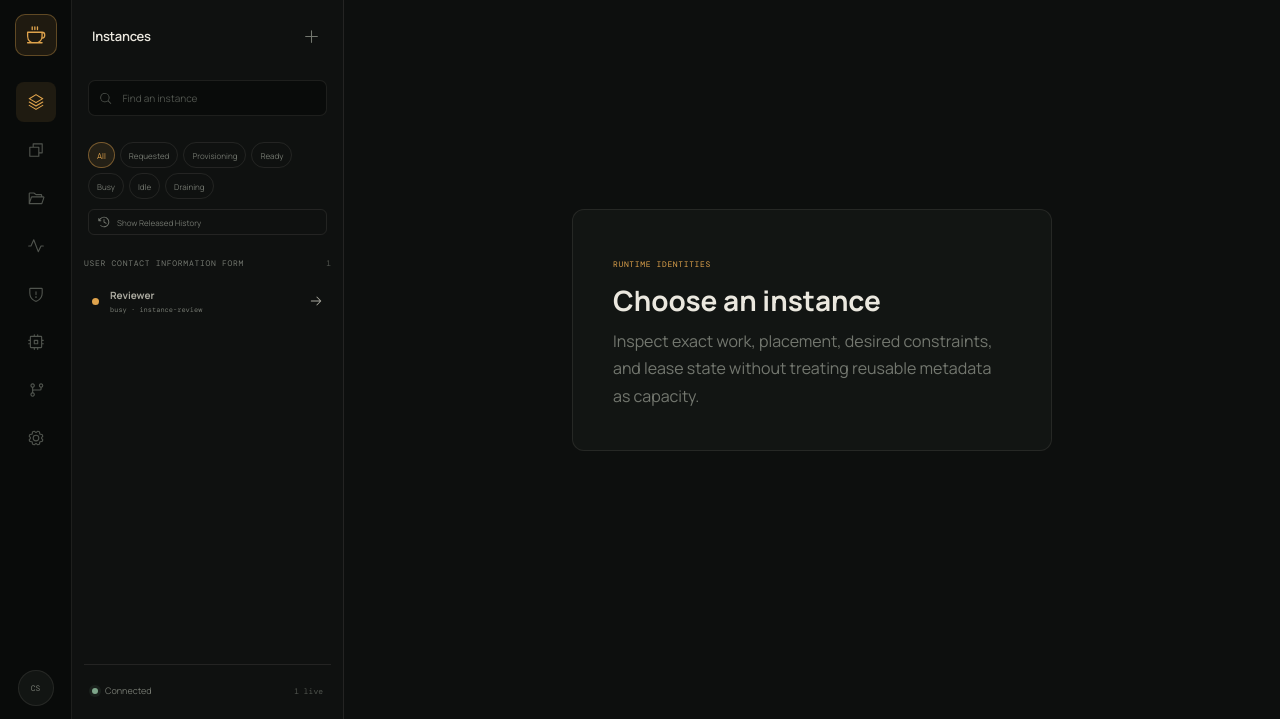
Test: version-5 instance and template operator experience › opens on instances, keeps desired constraints separate, and shows exact capacity/work
Click the button "Reviewer busy · instance-review" at [208, 301], box [84,275,331,327]
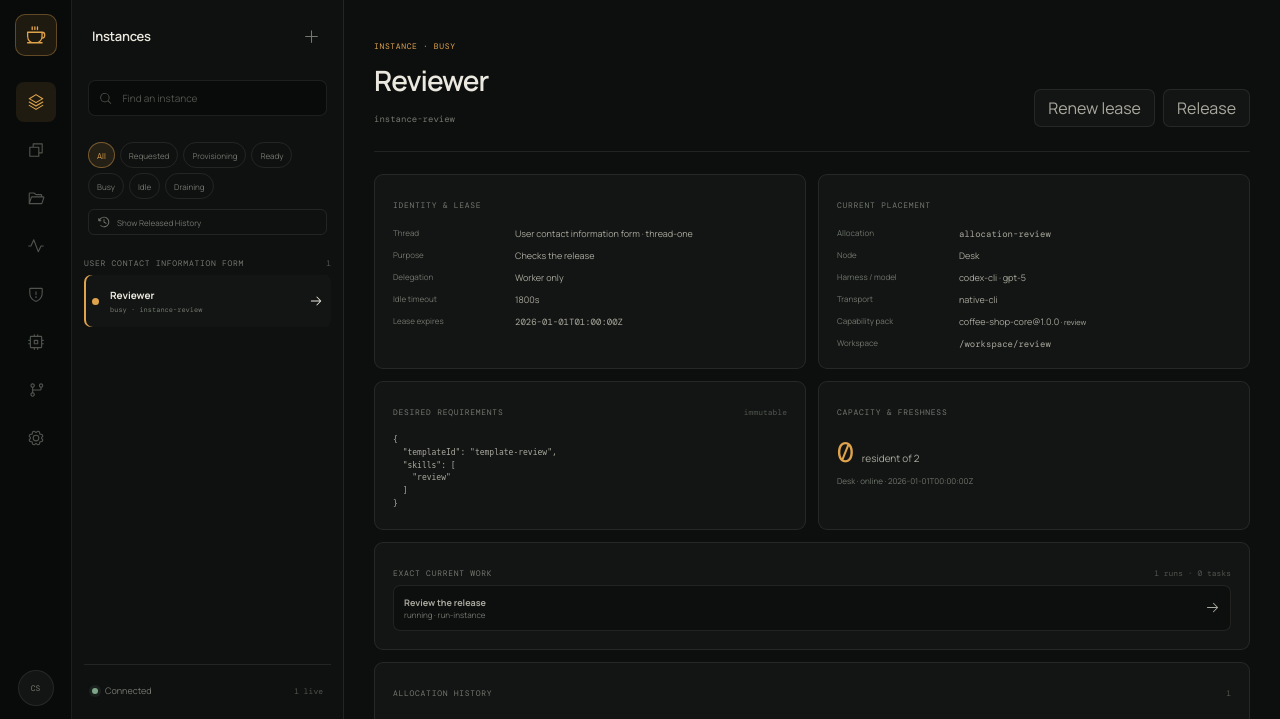
Expected: the text "Desired requirements" is shown, [393,407,503,417]
Expected: the text "Current placement" is shown, [837,200,931,210]
Expected: the text "coffee-shop-core@1.0.0" is shown, [959,315,1086,328]
Click the button named "Templates" at [36, 150], box [16,130,56,170]
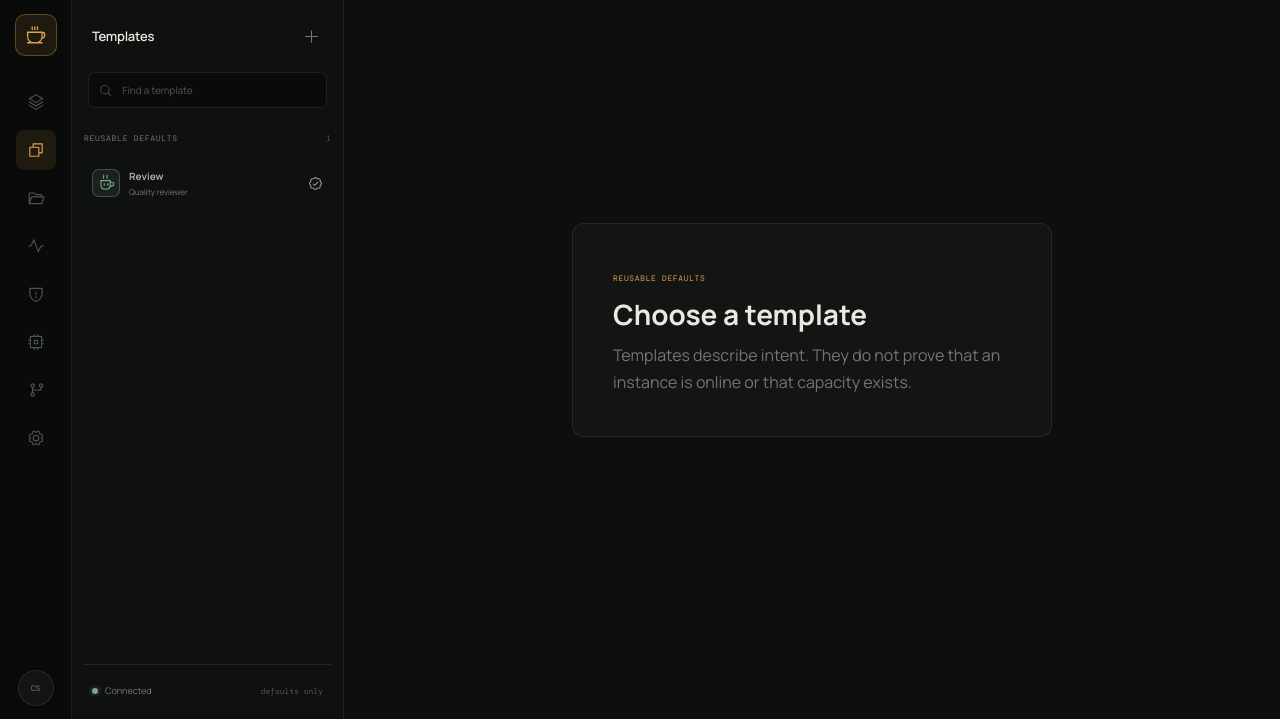
Click the button "Review Quality reviewer" at [208, 183], box [84,155,331,211]
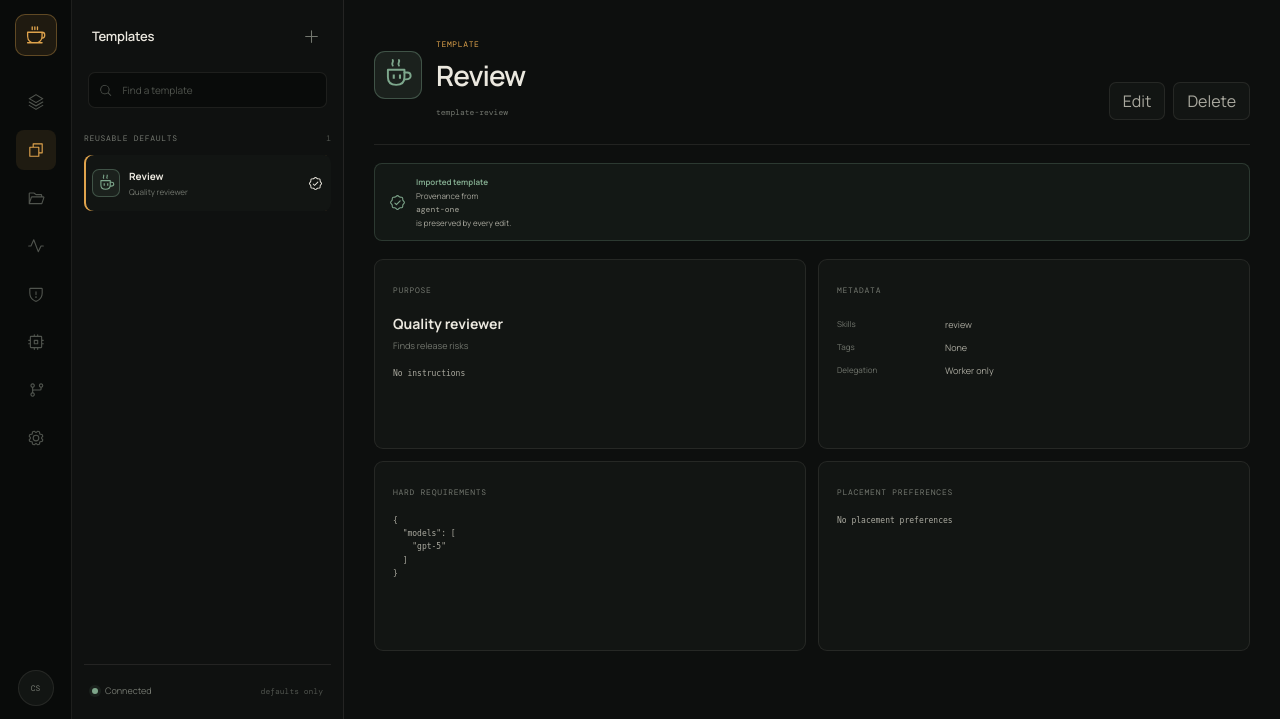
Expected: the text "defaults only" is shown, [261,686,323,696]
Expected: the text "Imported template" is shown, [416,176,488,187]
